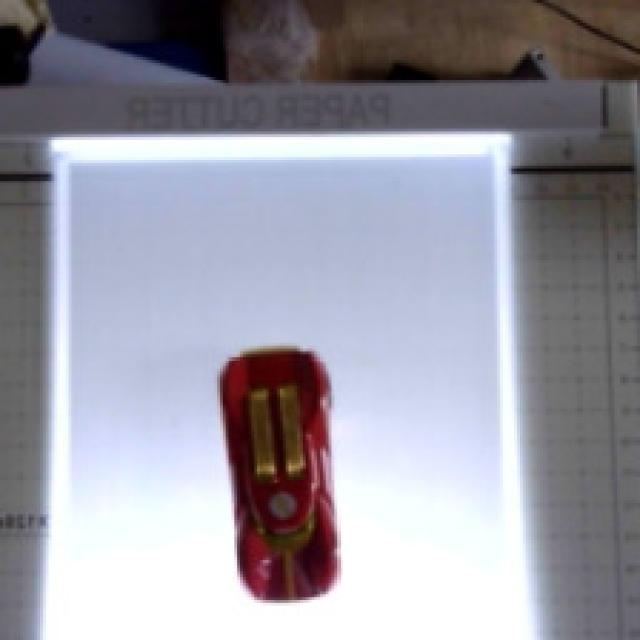Red Car: (186, 303, 400, 640)
